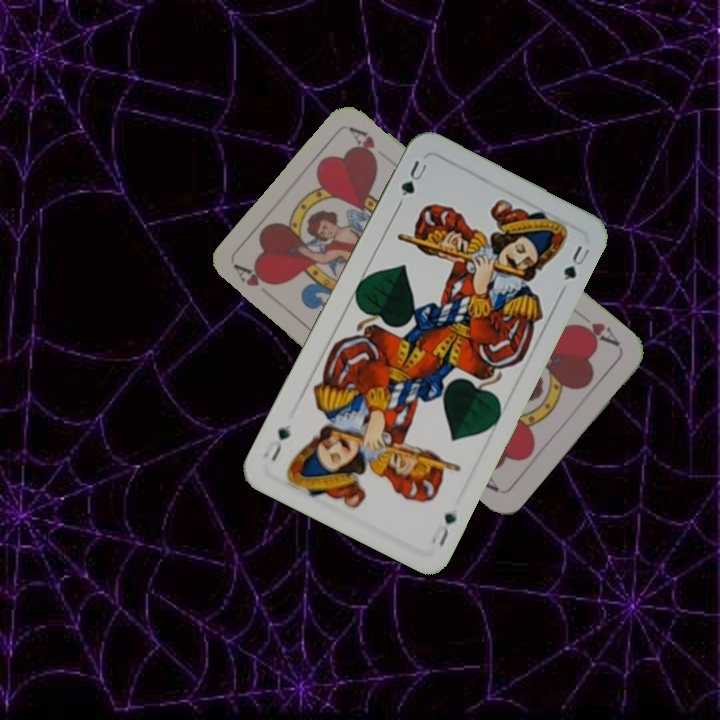GU: (396, 156, 430, 199), (429, 508, 459, 549)
HA: (569, 318, 623, 350), (231, 261, 277, 289)
